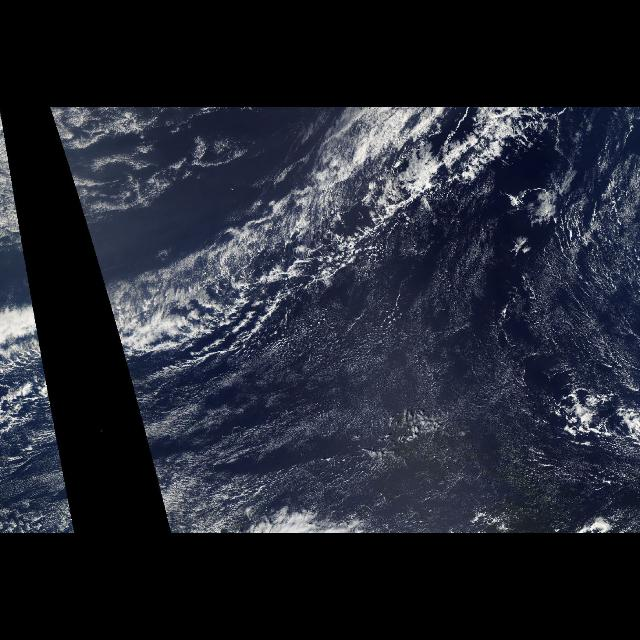Sugar: (165, 143, 640, 533)
